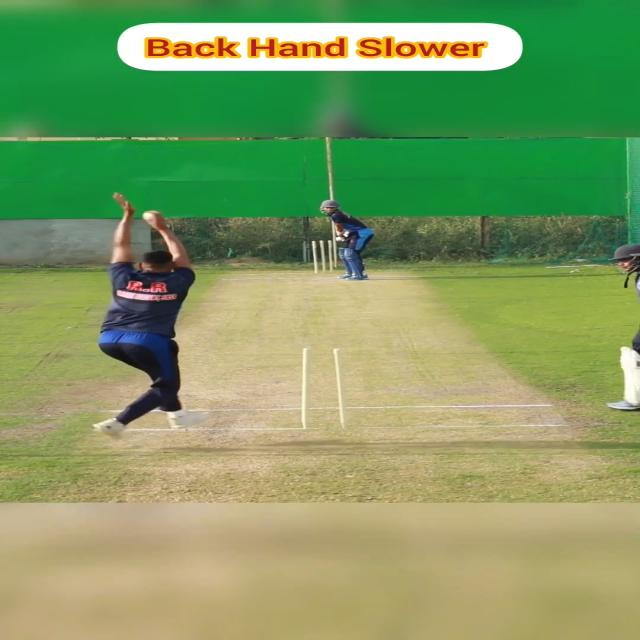stump: (299, 347, 348, 429), (310, 240, 334, 274)
